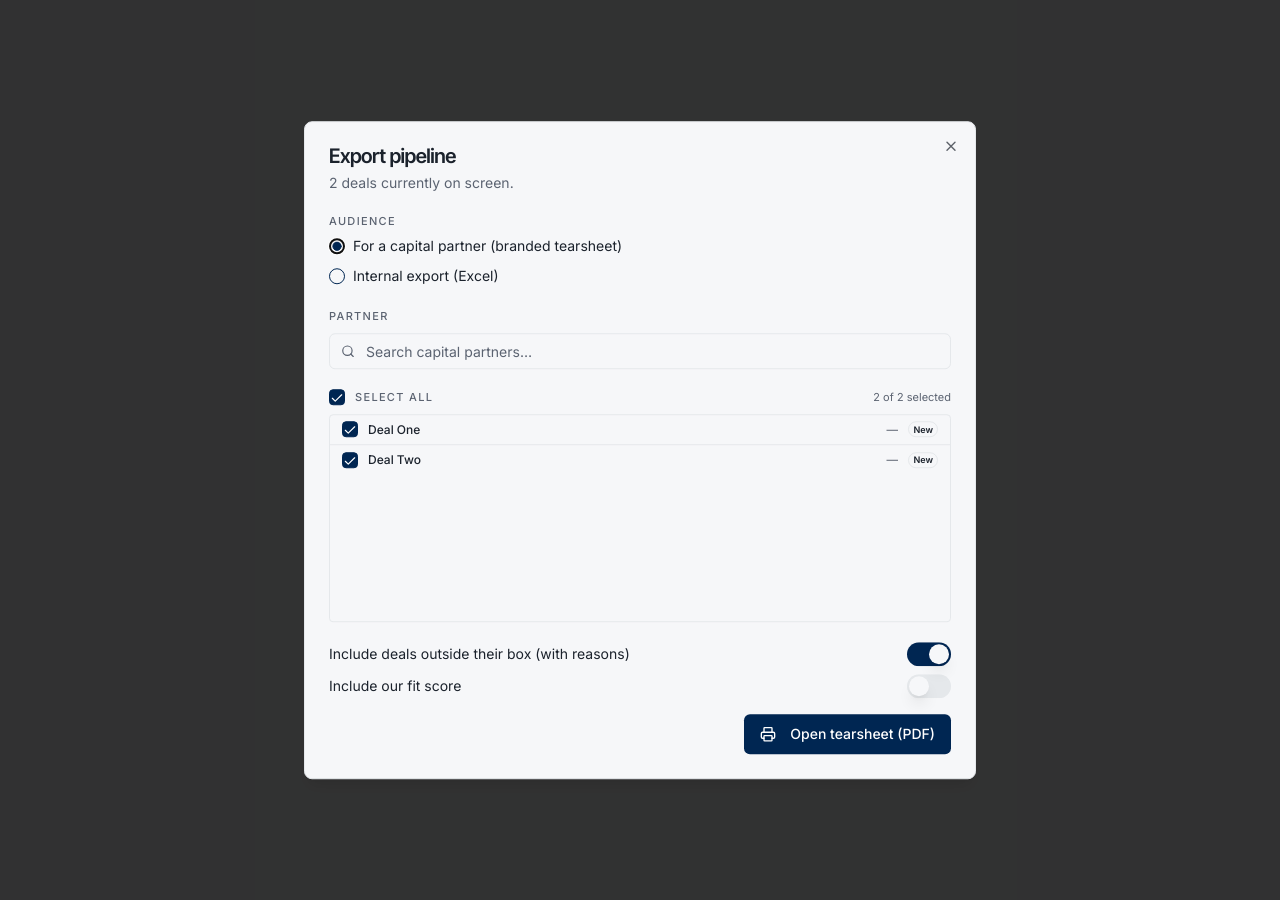
Test: ExportPipelineDialog select-all › shows indeterminate when some deals are selected, and clicking selects all
The image size is (1280, 900).
Click the checkbox next to "Deal One" at (350, 429), box x1=342 y1=421 x2=358 y2=437
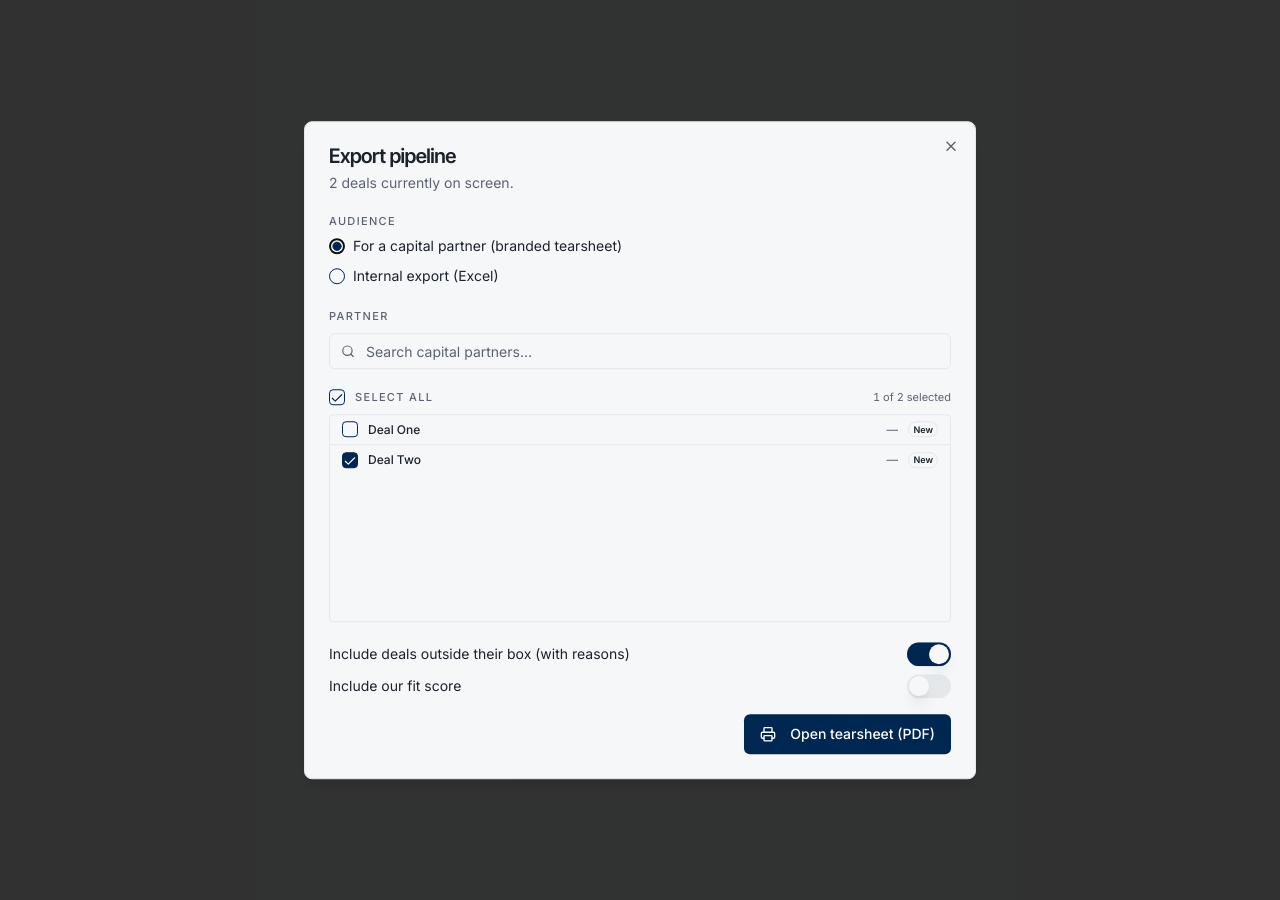
expect the checkbox named "Select all deals" has attribute data-state="indeterminate": met
Click the checkbox named "Select all deals" at (337, 398), box x1=329 y1=390 x2=345 y2=406
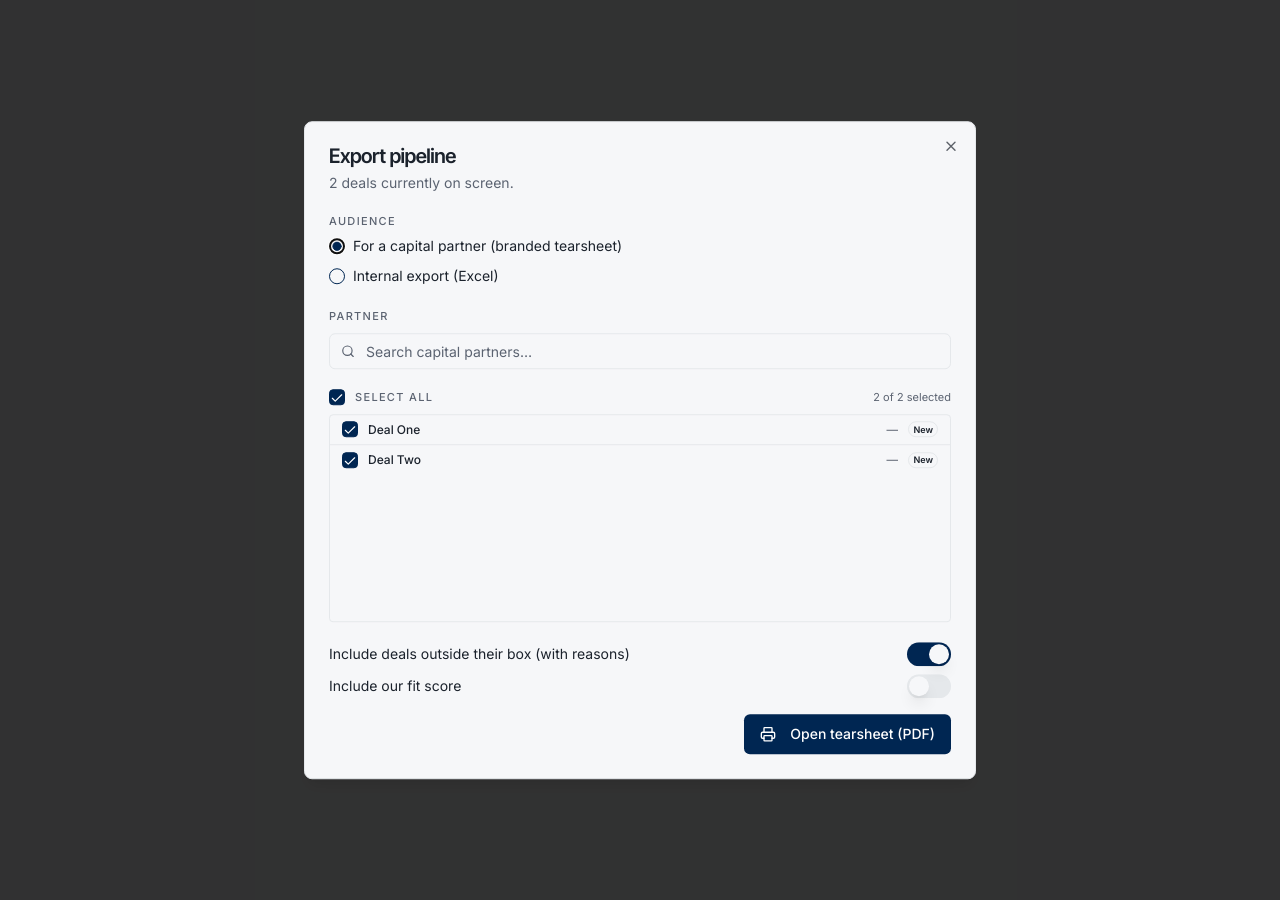
expect the text "2 of 2 selected" is shown: met, box x1=873 y1=389 x2=951 y2=406
